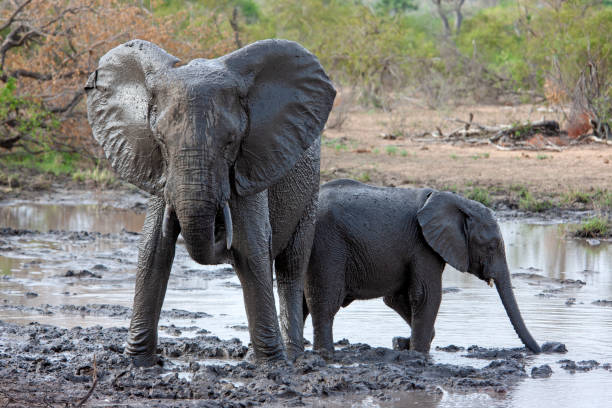africanelephant: (113, 50, 260, 265)
